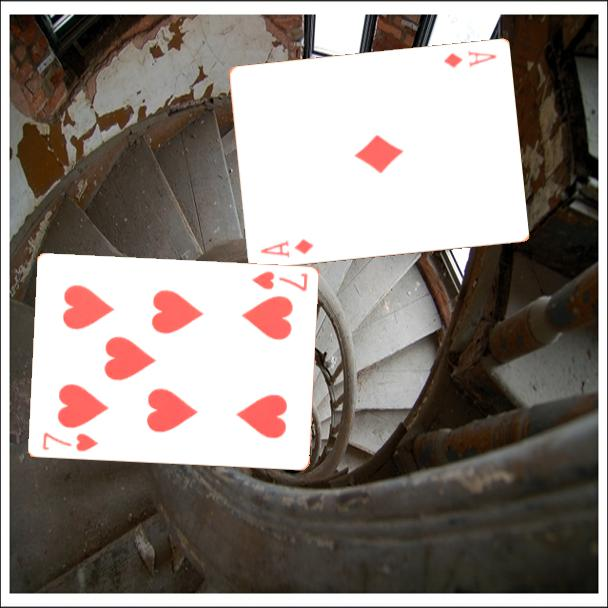d01: (257, 235, 316, 261), (440, 47, 499, 71)
h07: (248, 268, 310, 295), (39, 429, 101, 454)
